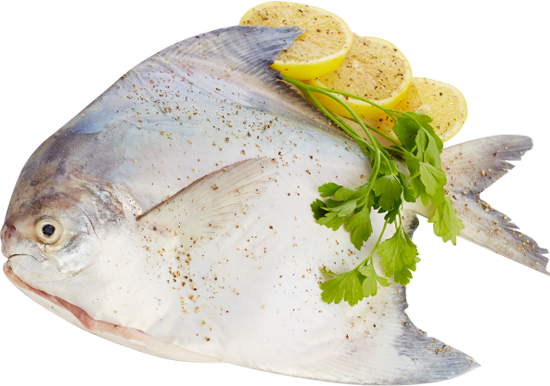Pomfret: (3, 24, 540, 384)
